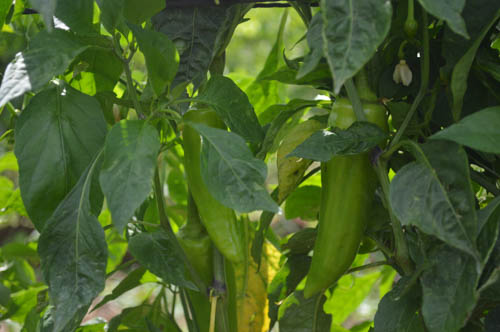ChiliPepper: (303, 100, 392, 301), (184, 111, 246, 261), (172, 236, 213, 329)
